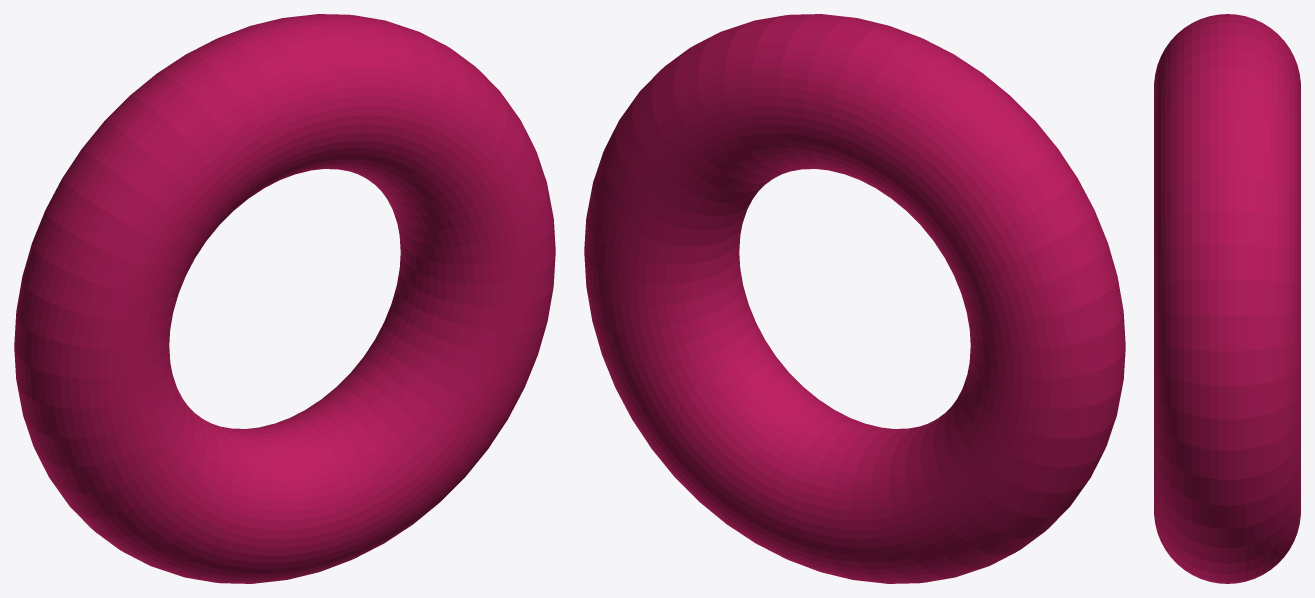
3 views of the same model, side by side, from view 1: azimuth 30°, elevation 25°; view 2: azimuth 150°, elevation 25°; view 3: azimuth 270°, elevation 25° (orthographic). The views are drawn at different scales.
Visible parts, largest first — view 1: world; view 2: world; view 3: world.
Boxes of the visible parts, <box> form: world: <box>14,14,555,583</box>; world: <box>584,14,1125,583</box>; world: <box>1154,14,1300,583</box>.
Size of the model in its own units: 37.73 by 37.66 by 9.71.
